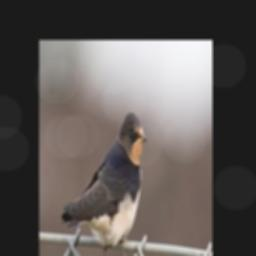Swallow: (60, 109, 146, 256)
